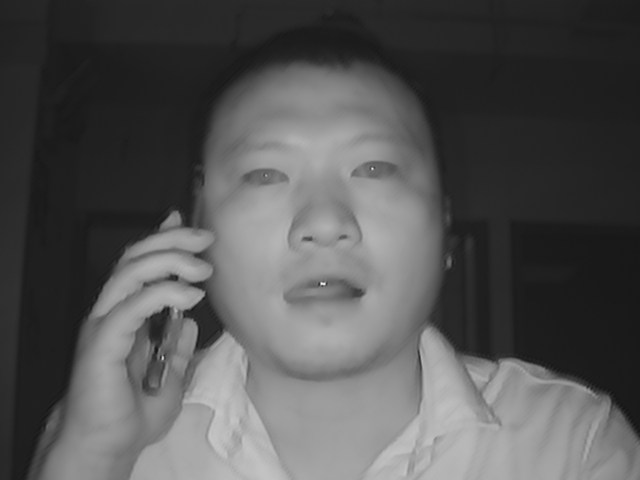hand: (63, 200, 203, 431)
